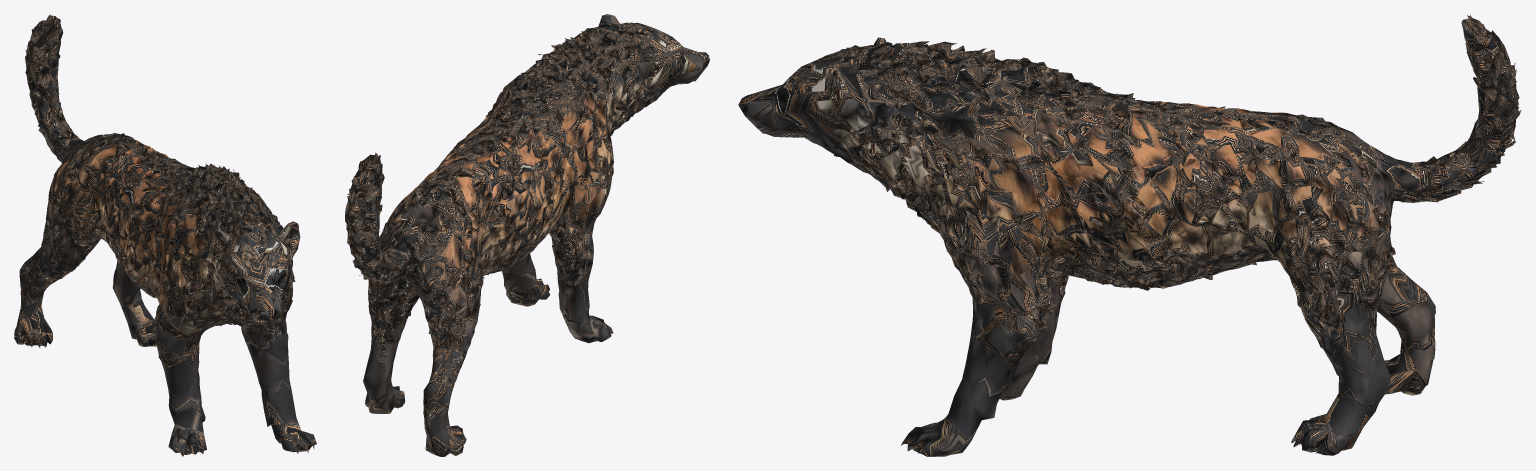
Rendered from giant-badger.glb.
The picture shows the model from 3 angles, left to right: view 1: azimuth 30°, elevation 25°; view 2: azimuth 150°, elevation 25°; view 3: azimuth 270°, elevation 25°; orthographic projection. The views are drawn at different scales.
Bounding box in the file's own units: 0.4696 × 1.08 × 1.9.
1 material, 1 textured.
